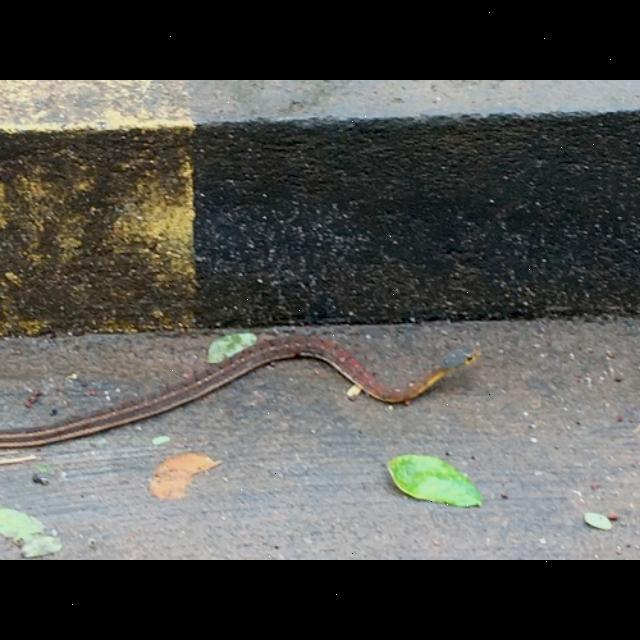snake: (0, 313, 498, 467)
